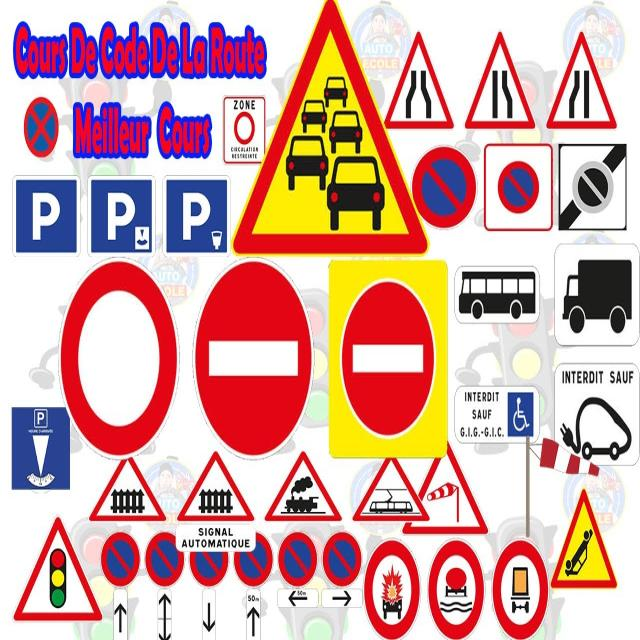danger: (235, 0, 430, 255), (14, 514, 104, 620), (548, 485, 621, 590), (545, 28, 619, 129), (463, 29, 536, 131), (384, 30, 454, 130), (405, 454, 489, 535), (178, 452, 256, 524), (262, 453, 343, 522), (89, 459, 168, 524), (351, 459, 430, 522)
forbidden: (195, 257, 314, 457), (340, 276, 437, 439), (363, 539, 422, 637), (492, 538, 548, 637), (430, 538, 484, 637), (100, 524, 142, 588), (24, 95, 61, 159), (146, 532, 187, 587), (278, 531, 318, 587), (324, 531, 364, 587), (234, 531, 272, 584), (190, 551, 226, 587)
